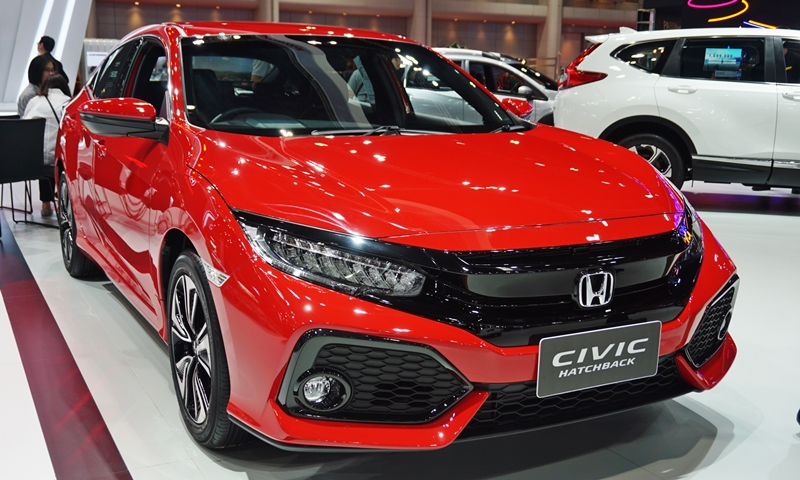sedan: (53, 17, 737, 457)
